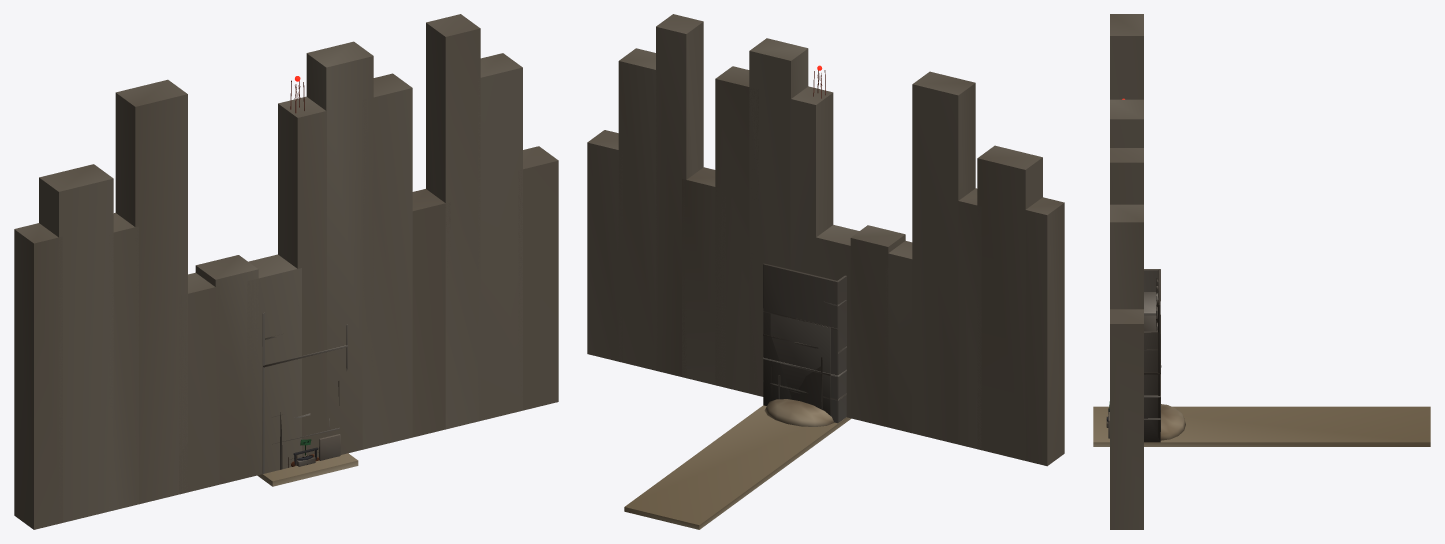
Rendered from superficie.glb.
3 renders of one model, left to right at view 1: azimuth 30°, elevation 25°; view 2: azimuth 150°, elevation 25°; view 3: azimuth 270°, elevation 25°, orthographic. The views are drawn at different scales.
Parts seen in each view (by area): view 1: skyline, chao_areia, predio_ruina_c, antena; view 2: skyline, chao_areia, predio_ruina_c, predio_ruina_a, duna, predio_ruina_b; view 3: skyline, chao_areia, predio_ruina_c, duna.
Part boxes in pixels (x1,y1,x2,y2): skyline: [14, 14, 558, 529]; chao_areia: [257, 453, 358, 486]; predio_ruina_c: [262, 312, 347, 473]; antena: [290, 76, 340, 460]; skyline: [587, 14, 1064, 466]; chao_areia: [624, 405, 851, 529]; predio_ruina_c: [763, 263, 846, 423]; predio_ruina_a: [770, 314, 830, 415]; duna: [764, 399, 834, 426]; predio_ruina_b: [778, 357, 822, 409]; skyline: [1110, 14, 1143, 529]; chao_areia: [1093, 406, 1430, 446]; predio_ruina_c: [1144, 269, 1160, 442]; duna: [1160, 404, 1185, 440].
Size of the model in its own units: 61.27 by 45.04 by 40.
